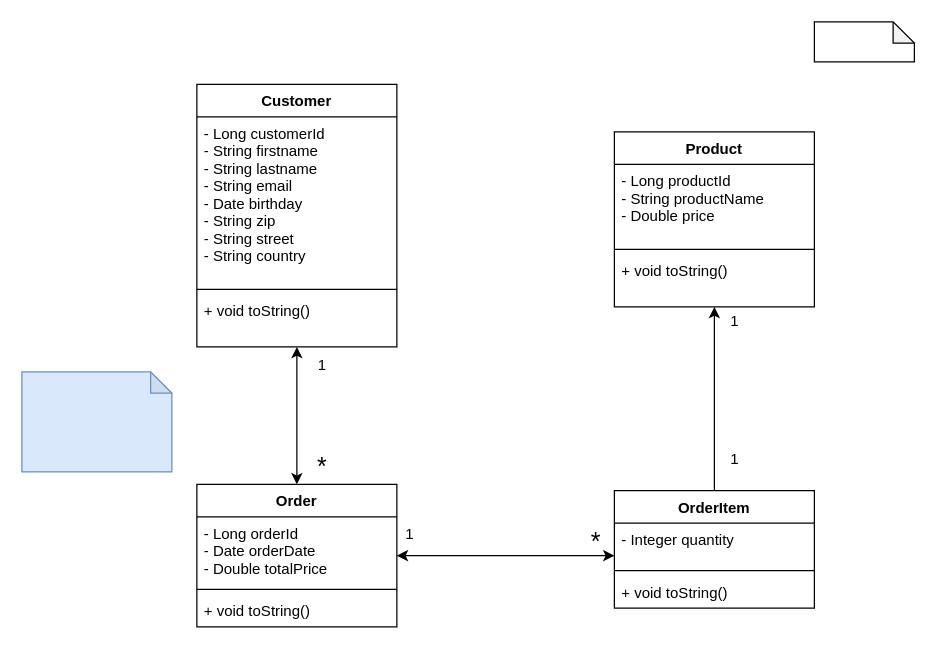
The diagram is 936 pixels wide and 653 high, and some of its shapes have lost their labels. The centre of each missing label's shape, as x and y in pixels:
CD: the point at 863,41
Getter und Setter werden weggelassen: the point at 96,421
